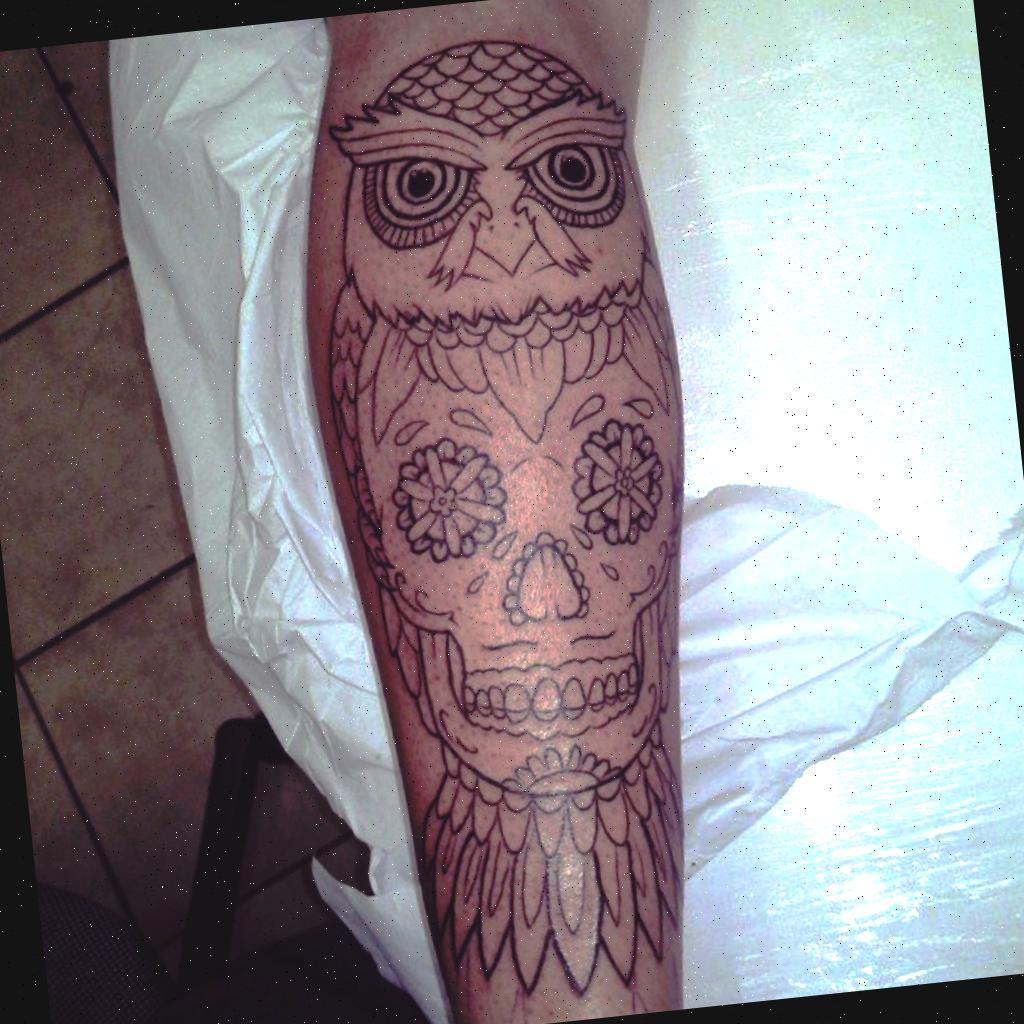Owl: (289, 21, 739, 1024)
